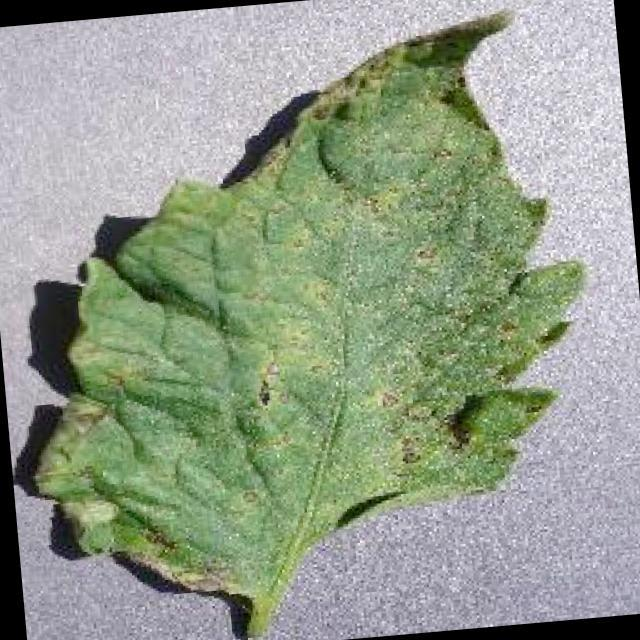Tomato Septoria spot leaf: (4, 2, 614, 608)
